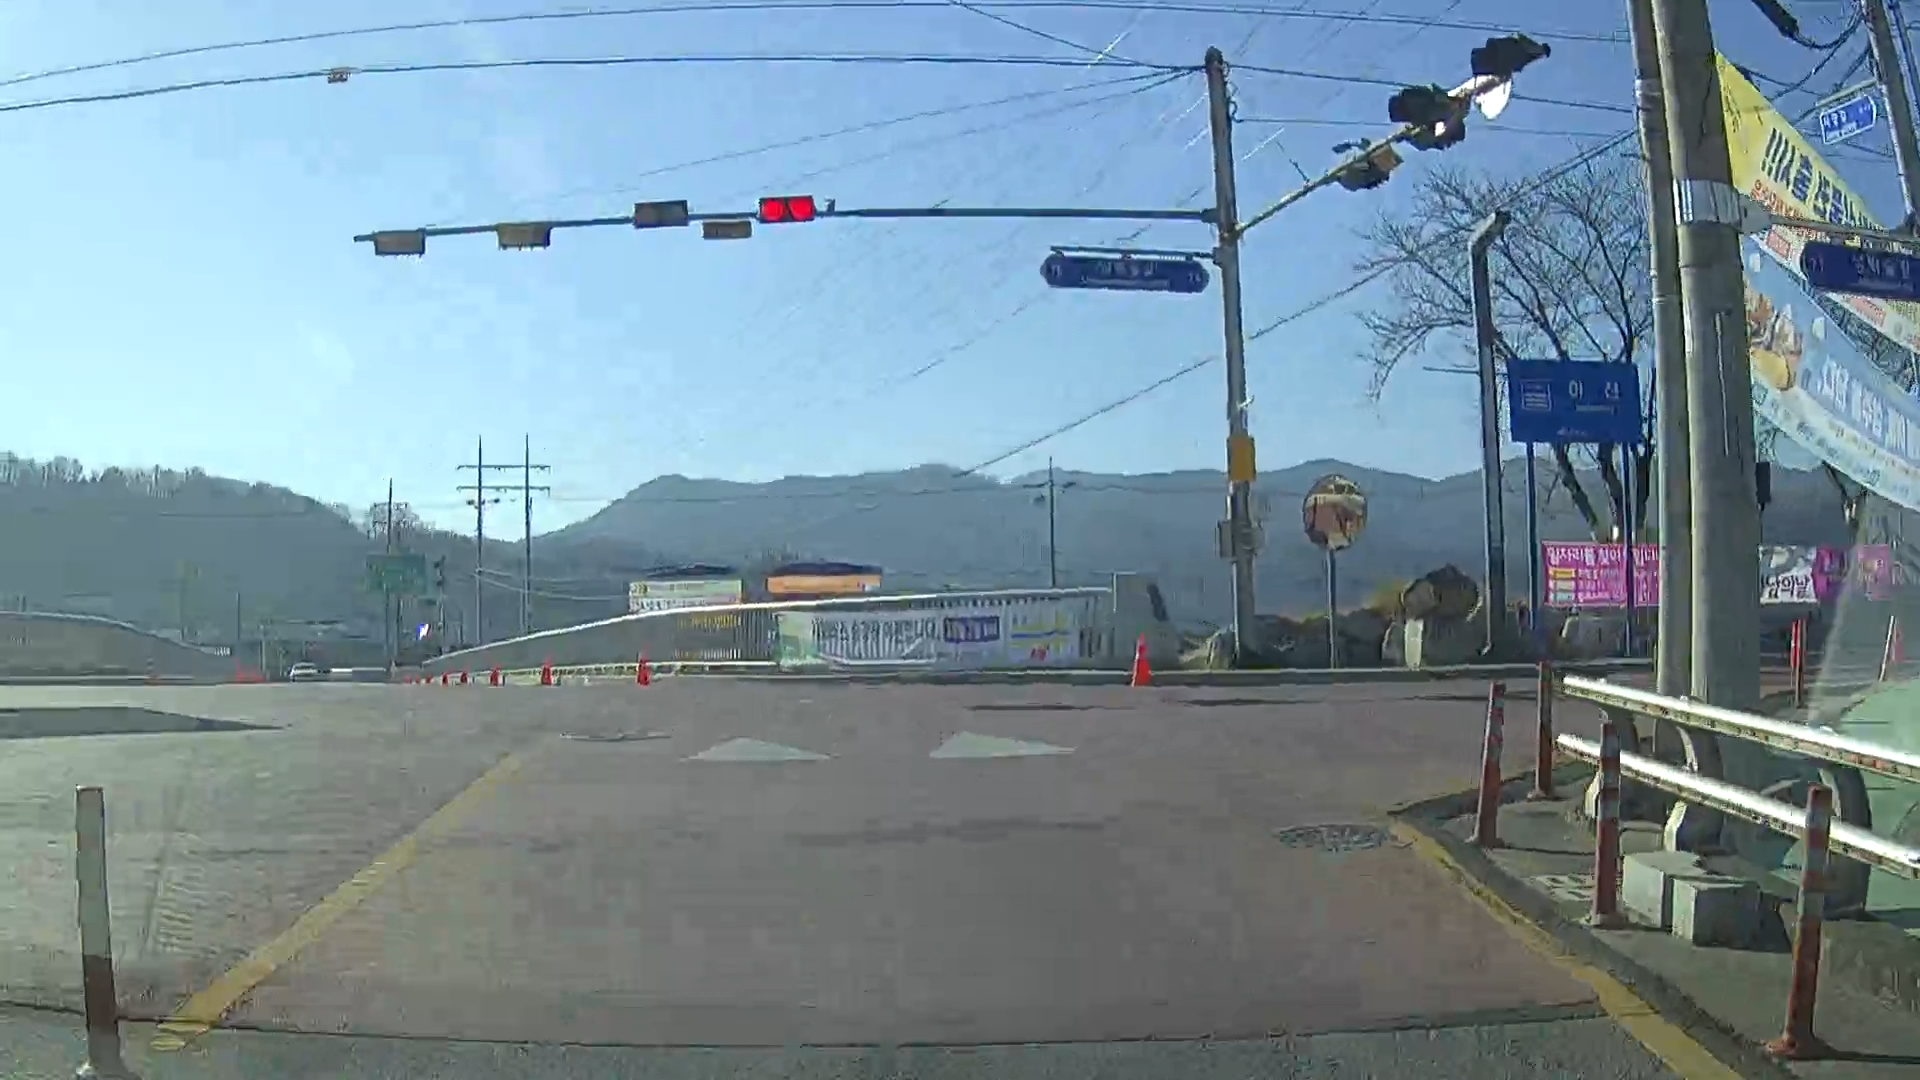trafficLight: (753, 190, 818, 224), (626, 196, 694, 227)
